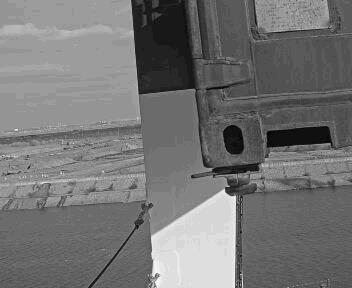twist_lock_1: (93, 190, 198, 261)
